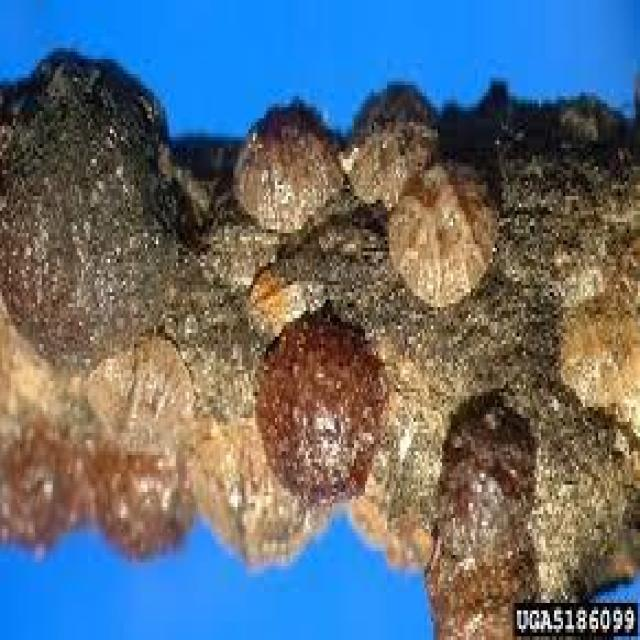Black Scale: (0, 52, 178, 363), (0, 418, 191, 555), (255, 314, 383, 499), (440, 392, 534, 570), (389, 166, 495, 303), (233, 100, 341, 229), (343, 81, 431, 203)
